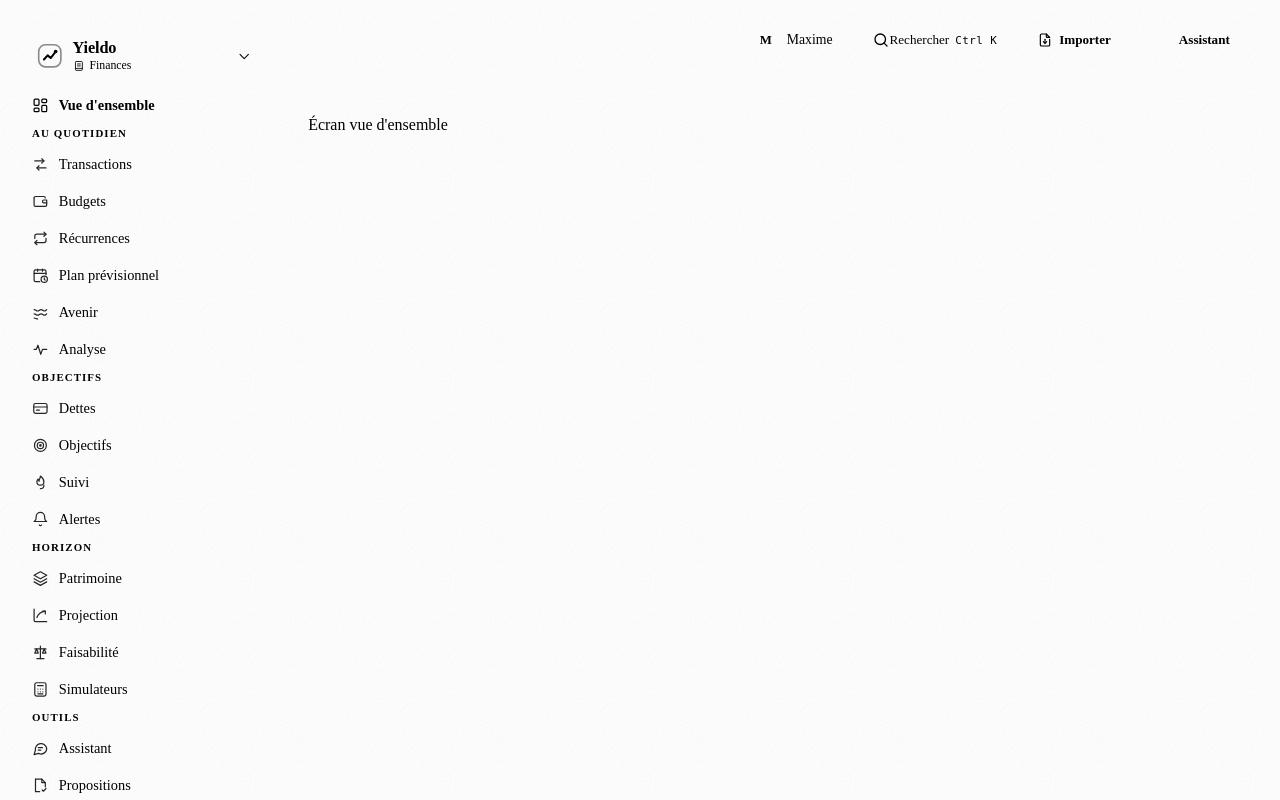
AppShell › routes the Récurrences nav entry to the recurrences screen
Click the link "Récurrences". click: click(81, 238)
box: [32, 230, 130, 247]
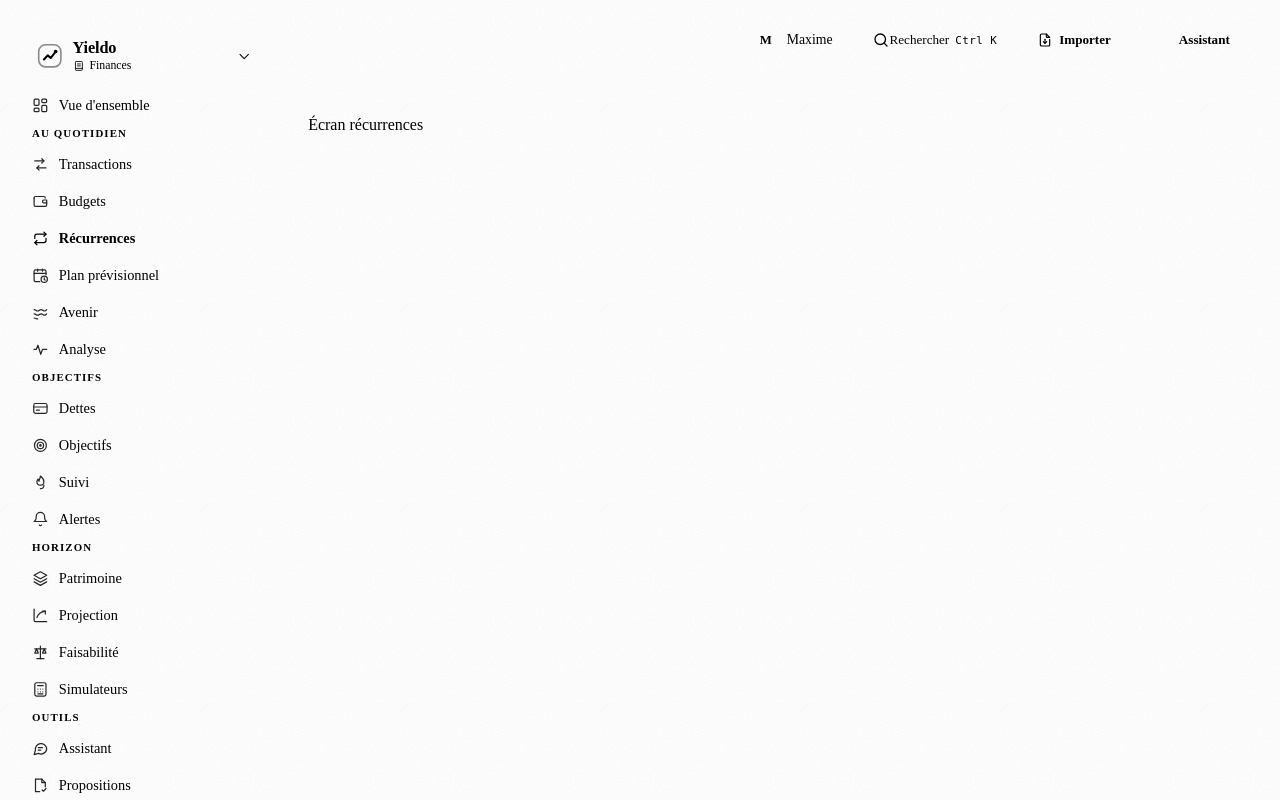
Check: the element showing "Écran récurrences" is shown, box [308, 116, 423, 133]
